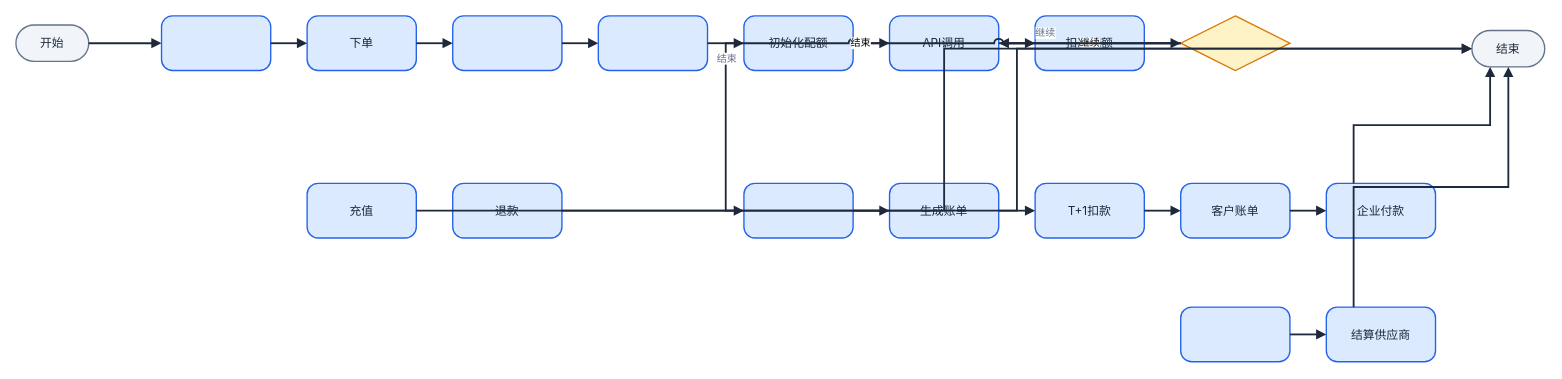
Some shapes in this 1562 by 379 pixel diagram are drawn without their labels. The centre of each missing label's shape, as x and y in pixels:
"供应商账单" goes at point (1235, 334).
"审批" goes at point (507, 43).
"支付" goes at point (652, 43).
"月底汇总" goes at point (798, 210).
"继续调用?" goes at point (1235, 43).
"选购产品" goes at point (215, 43).
